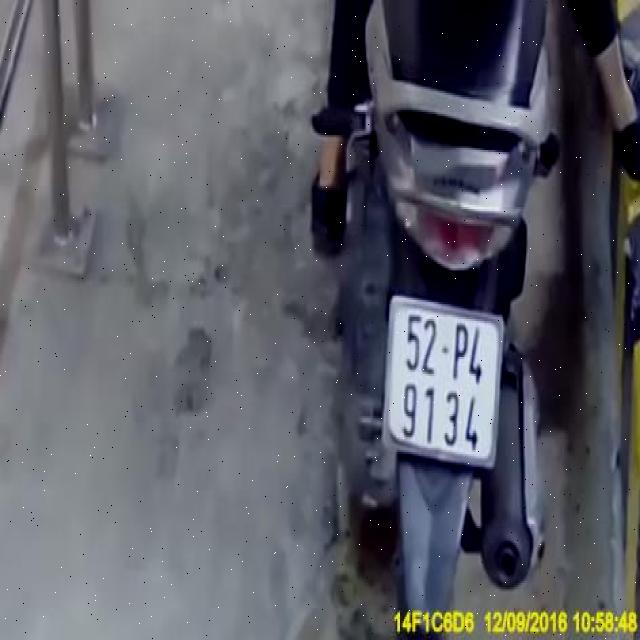1: (424, 384, 436, 448)
2: (423, 313, 435, 379)
3: (443, 390, 459, 447)
4: (463, 395, 482, 454), (468, 328, 486, 389)
5: (403, 311, 422, 372)
9: (402, 381, 418, 440)
P: (450, 320, 468, 380)
